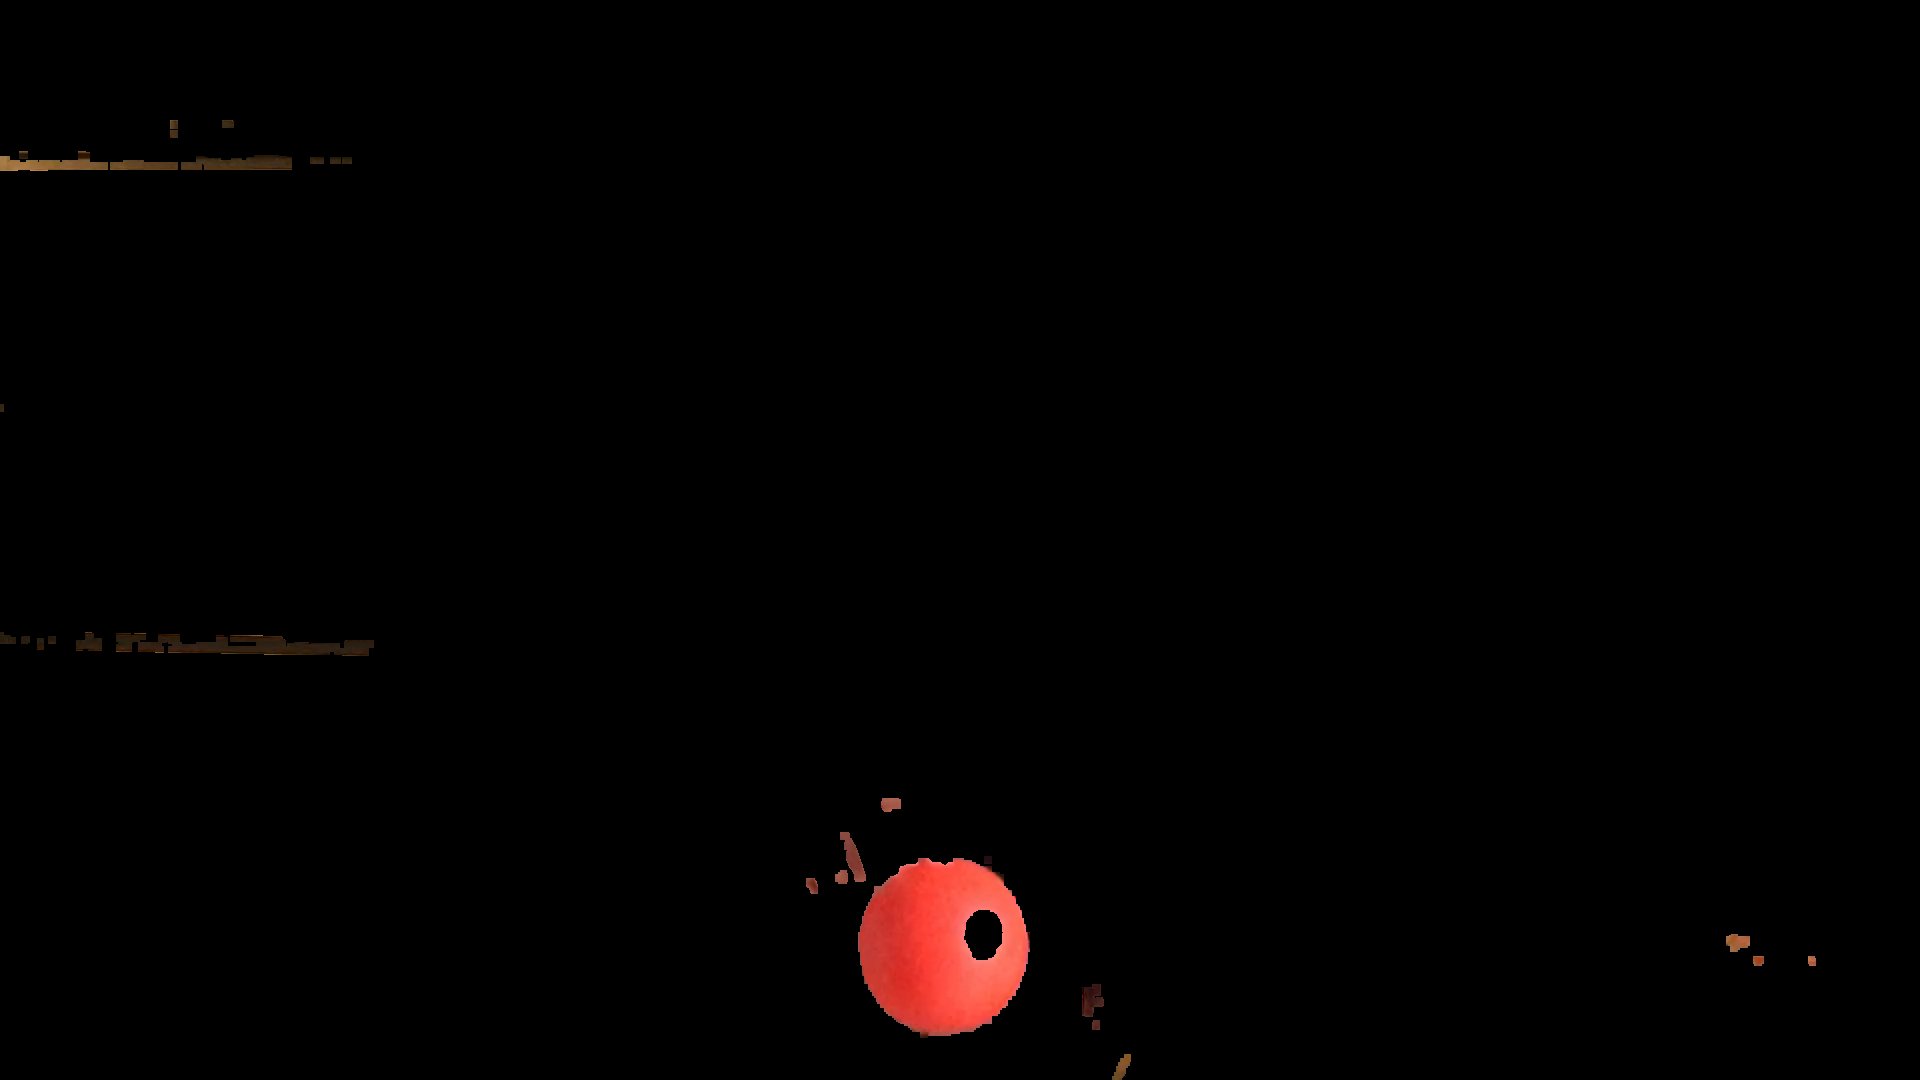Ball: (856, 862, 1036, 1033)
